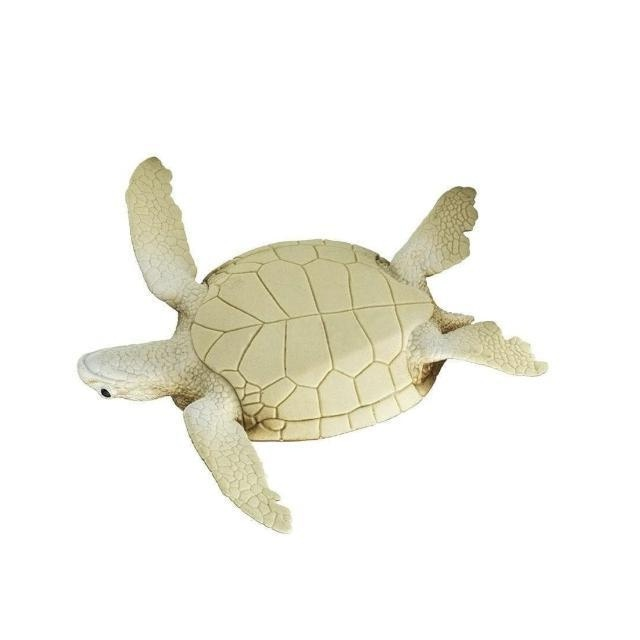turtle: (75, 155, 549, 537)
